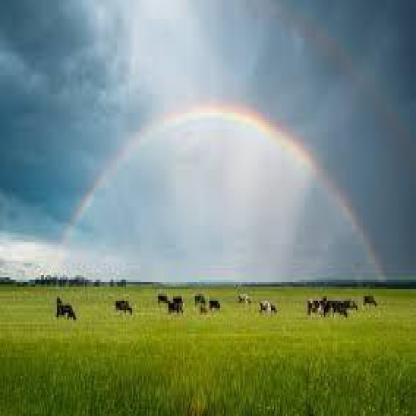cow: (323, 301, 354, 322), (54, 297, 79, 323), (112, 300, 136, 318), (308, 294, 325, 317), (236, 291, 256, 308), (256, 301, 278, 315), (361, 292, 380, 307), (191, 291, 207, 308), (204, 298, 223, 312), (166, 300, 186, 312), (172, 289, 184, 306), (158, 292, 170, 307), (198, 306, 211, 317)
